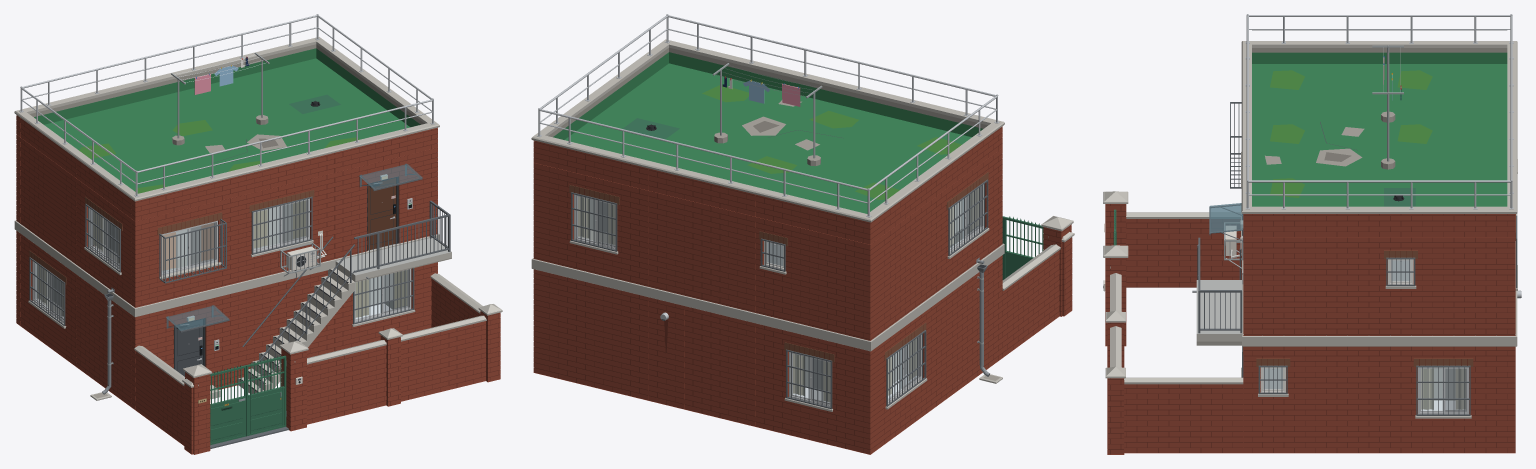
Rendered from SC_Bld_Villa_Prefab_House_2F.gltf.
3 views of the same model, side by side, from view 1: azimuth 30°, elevation 25°; view 2: azimuth 150°, elevation 25°; view 3: azimuth 270°, elevation 25° (orthographic). The views are drawn at different scales.
Parts seen in each view (by area): view 1: SC_Bld_Villa_Prefab_House_2F; view 2: SC_Bld_Villa_Prefab_House_2F; view 3: SC_Bld_Villa_Prefab_House_2F.
Part boxes in pixels (bbox=[...]): SC_Bld_Villa_Prefab_House_2F: bbox=[14, 14, 502, 454]; SC_Bld_Villa_Prefab_House_2F: bbox=[531, 14, 1074, 454]; SC_Bld_Villa_Prefab_House_2F: bbox=[1103, 14, 1521, 454].
Bounding box in the file's own units: 10.15 × 7.72 × 9.84.
Materials: 4 (4 with a texture image).
